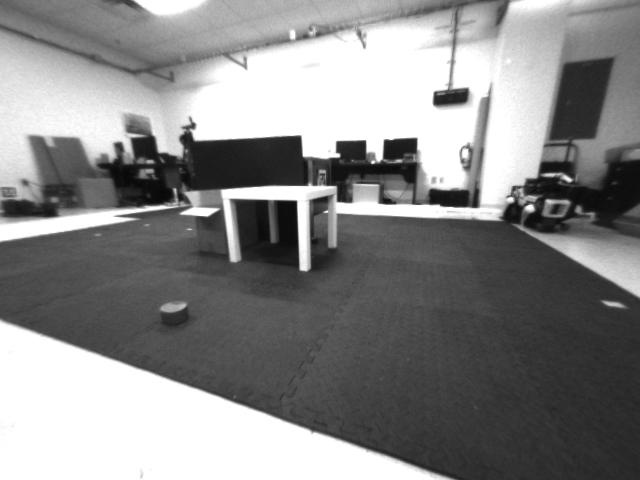dogtoy: (142, 293, 206, 338)
